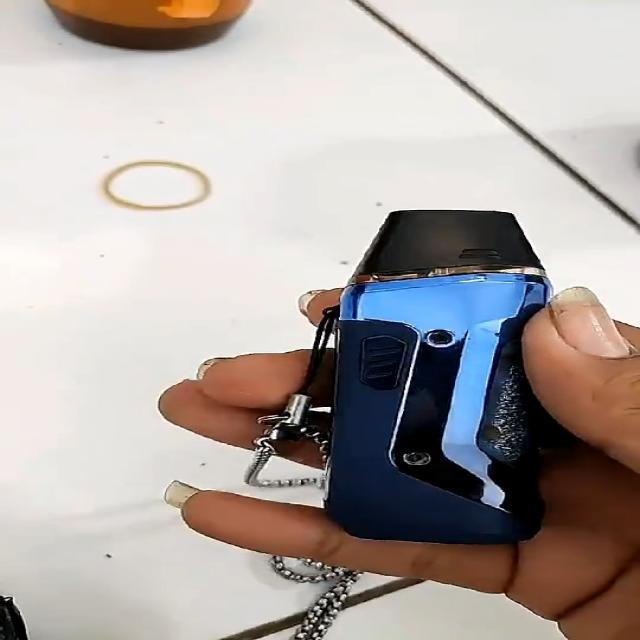Hazard: (329, 207, 554, 540)
